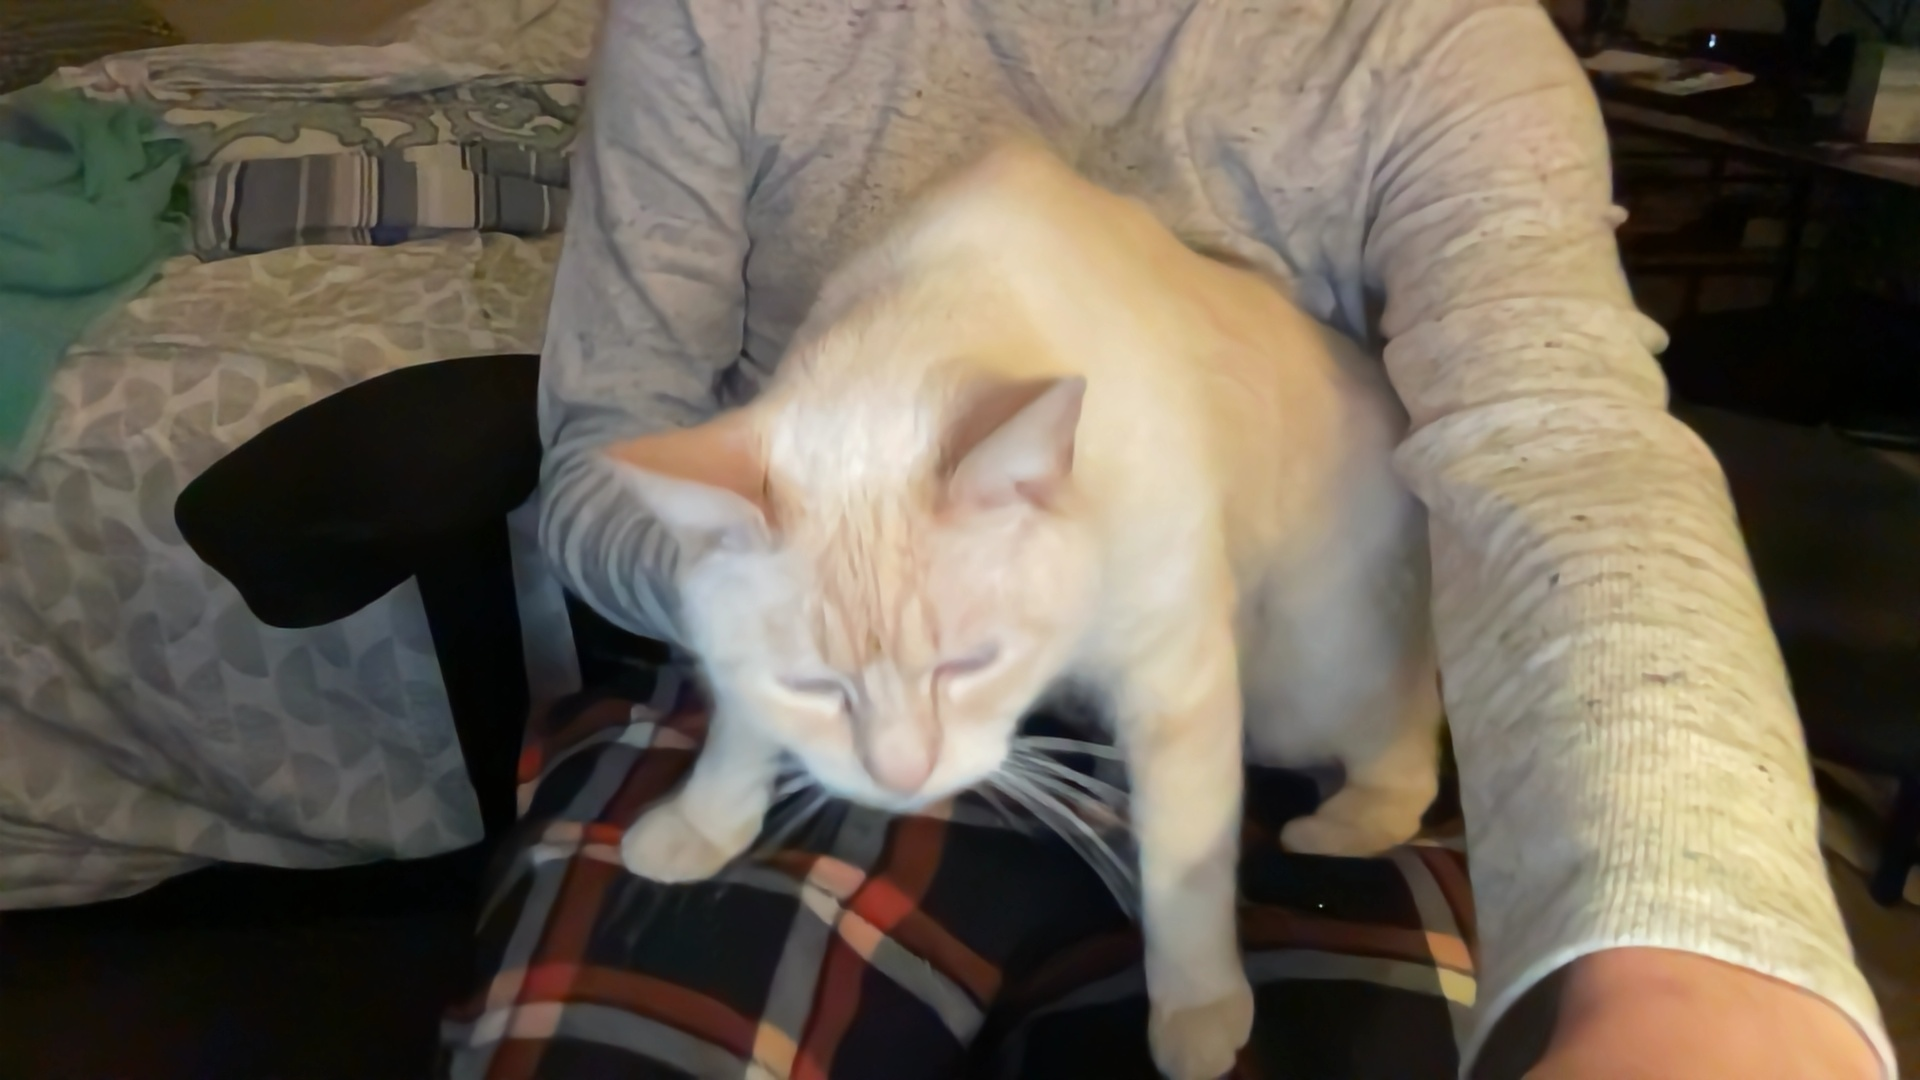cat: (644, 152, 1469, 1080)
